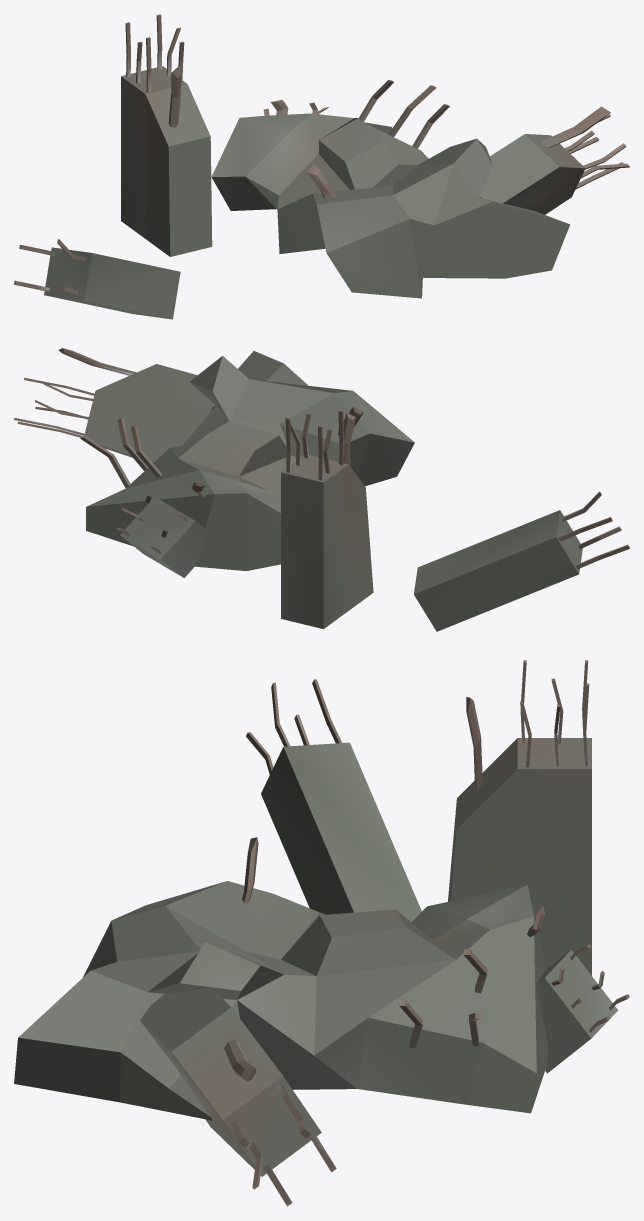
The model's file is EscombrosB.fbx.
3 renders of one model, top to bottom at view 1: azimuth 30°, elevation 25°; view 2: azimuth 150°, elevation 25°; view 3: azimuth 270°, elevation 25°, orthographic. The views are drawn at different scales.
Parts seen in each view (by area): view 1: LOD_0; view 2: LOD_0; view 3: LOD_0.
Part boxes in pixels (box(x1,y1,x2,y2)): LOD_0: box(14, 14, 629, 319); LOD_0: box(14, 348, 629, 631); LOD_0: box(14, 660, 629, 1206).
Size of what is drawn, in the model's own units: 441 by 162 by 257.
